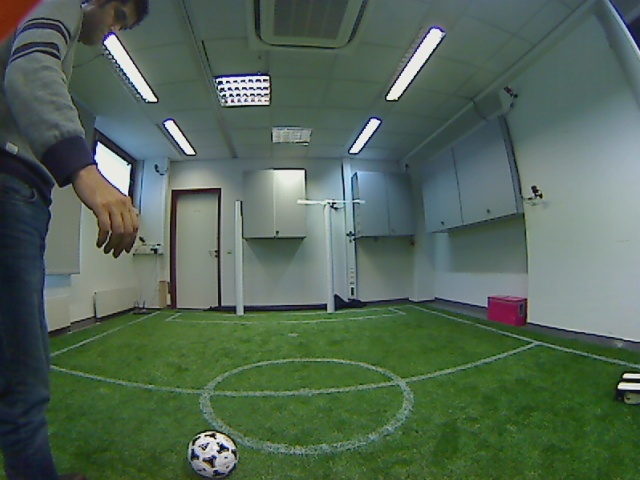ball: (180, 425, 243, 478)
